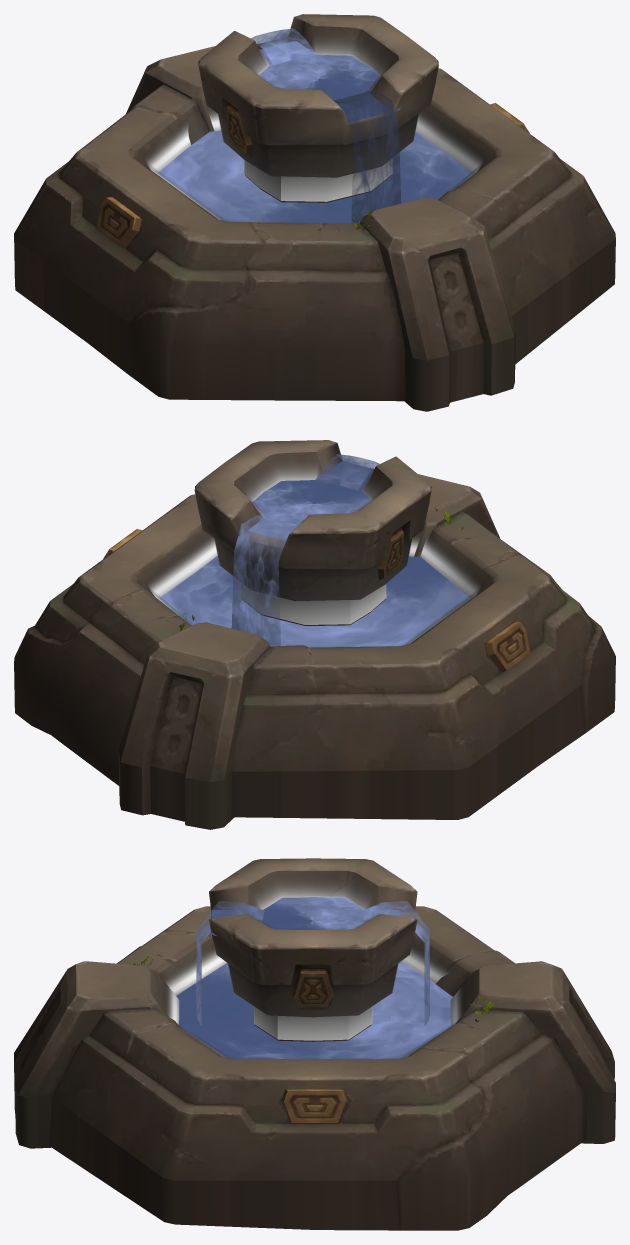
3 renders of one model, top to bottom at view 1: azimuth 30°, elevation 25°; view 2: azimuth 150°, elevation 25°; view 3: azimuth 270°, elevation 25°, orthographic. The views are drawn at different scales.
Size of the model in its own units: 7.53 by 3.63 by 8.74.
5 materials, 5 textured.
